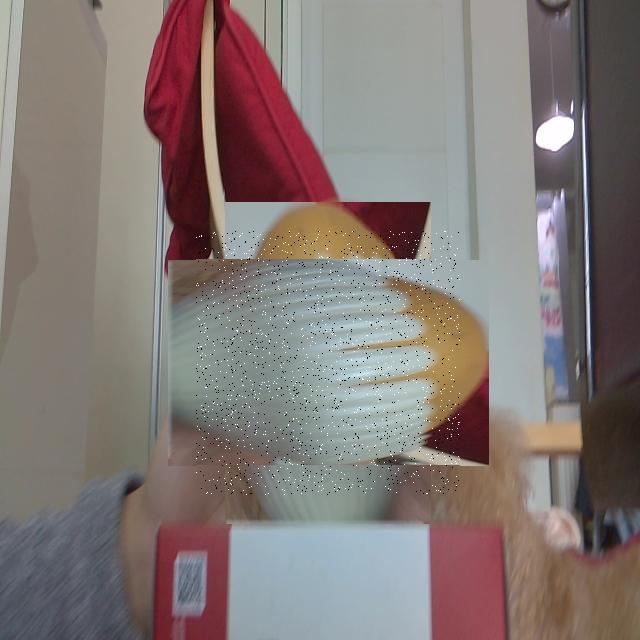pear: (196, 232, 460, 496)
